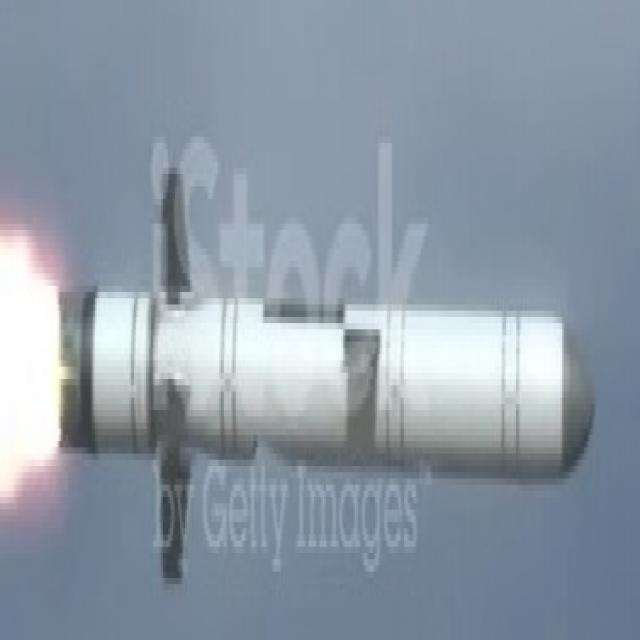Missile: (46, 279, 604, 492)
